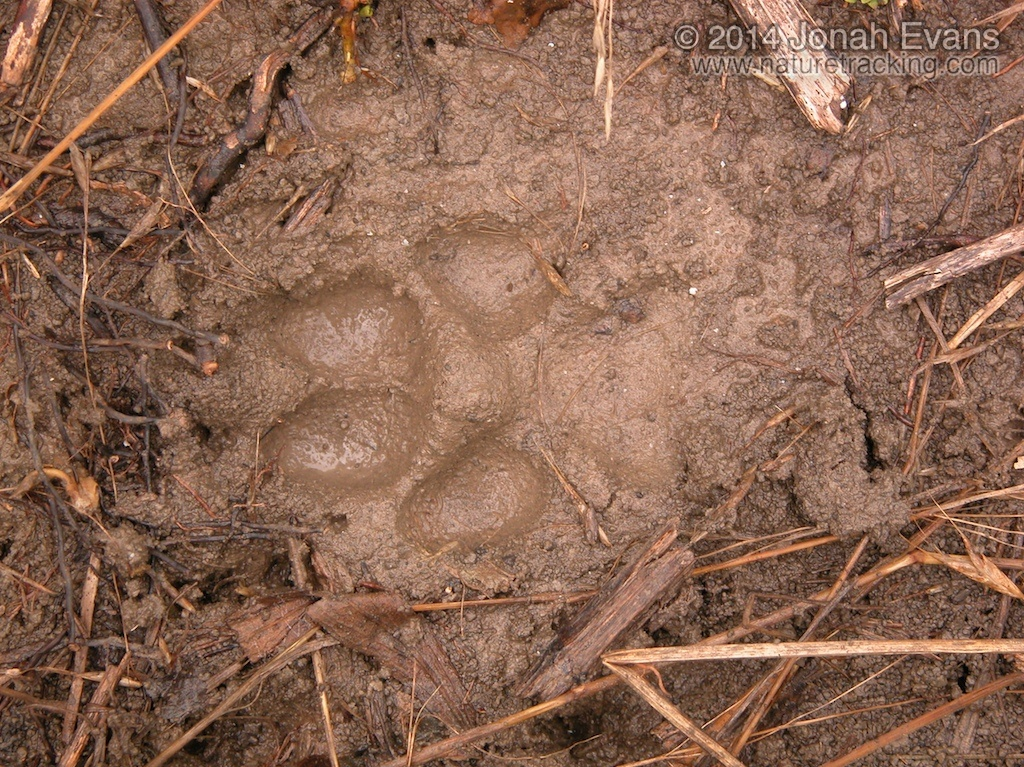coyote: (144, 181, 723, 589)
